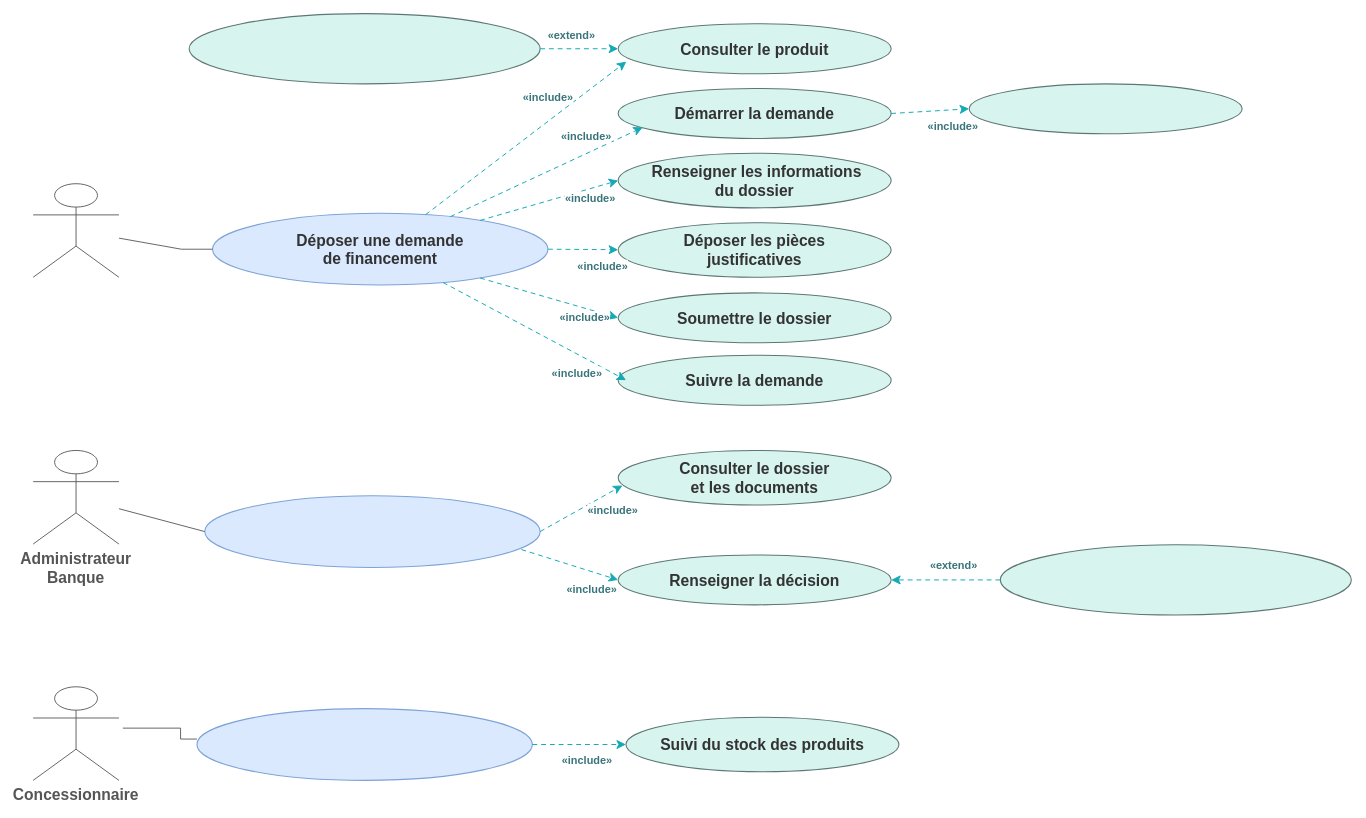
Image size: 1366x818. Some labels were removed from this diagram. Here are the shapes that lost their labels. From the top down, the box of each, then its label:
(188, 13, 540, 84): Comparer le produit
(968, 83, 1242, 134): Simuler le produit
(32, 183, 119, 277): Client
(204, 495, 540, 568): Traiter une demande de financement
(999, 544, 1352, 615): Refuser la demande et préciser le motif [dossier refusé]
(196, 708, 533, 781): Suivre les financements liés aux produits
